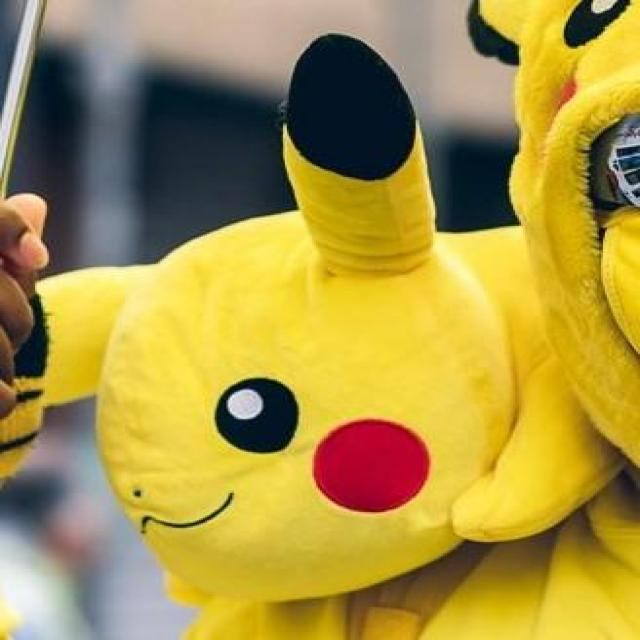pikachu: (8, 36, 520, 604)
